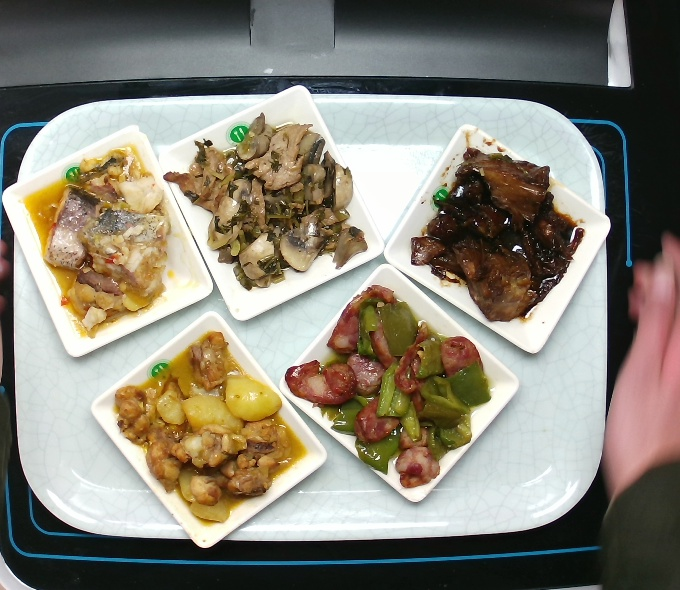wcq-JiangZhiYa: (409, 147, 587, 326)
wcq-MoGuRouPian: (161, 108, 371, 292)
wcq-QingJiaoXiangChang: (284, 284, 492, 491)
wcq-SuanCaiYu: (23, 142, 183, 340)
wcq-TuDouJiKuai: (110, 331, 308, 529)
